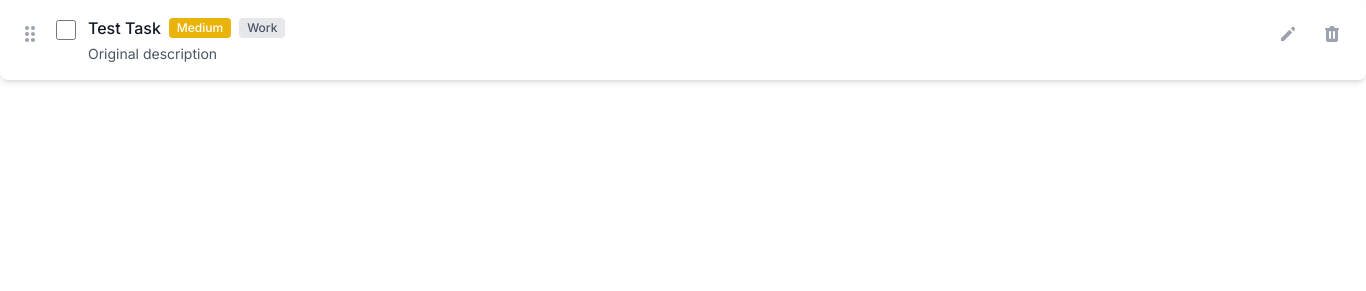
Scenario: TodoItem Component - Auto Fill Feature › should show Auto fill button in edit mode
// Click edit button to enter edit mode
Click the button titled "Edit".
click(1288, 34)  # box [1270, 16, 1306, 52]
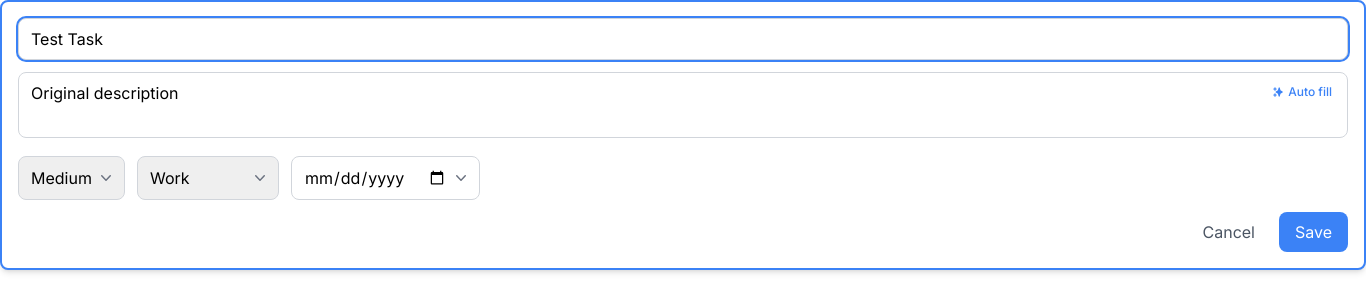
Expected: the button "Auto fill" is shown, [1264, 80, 1340, 104]
